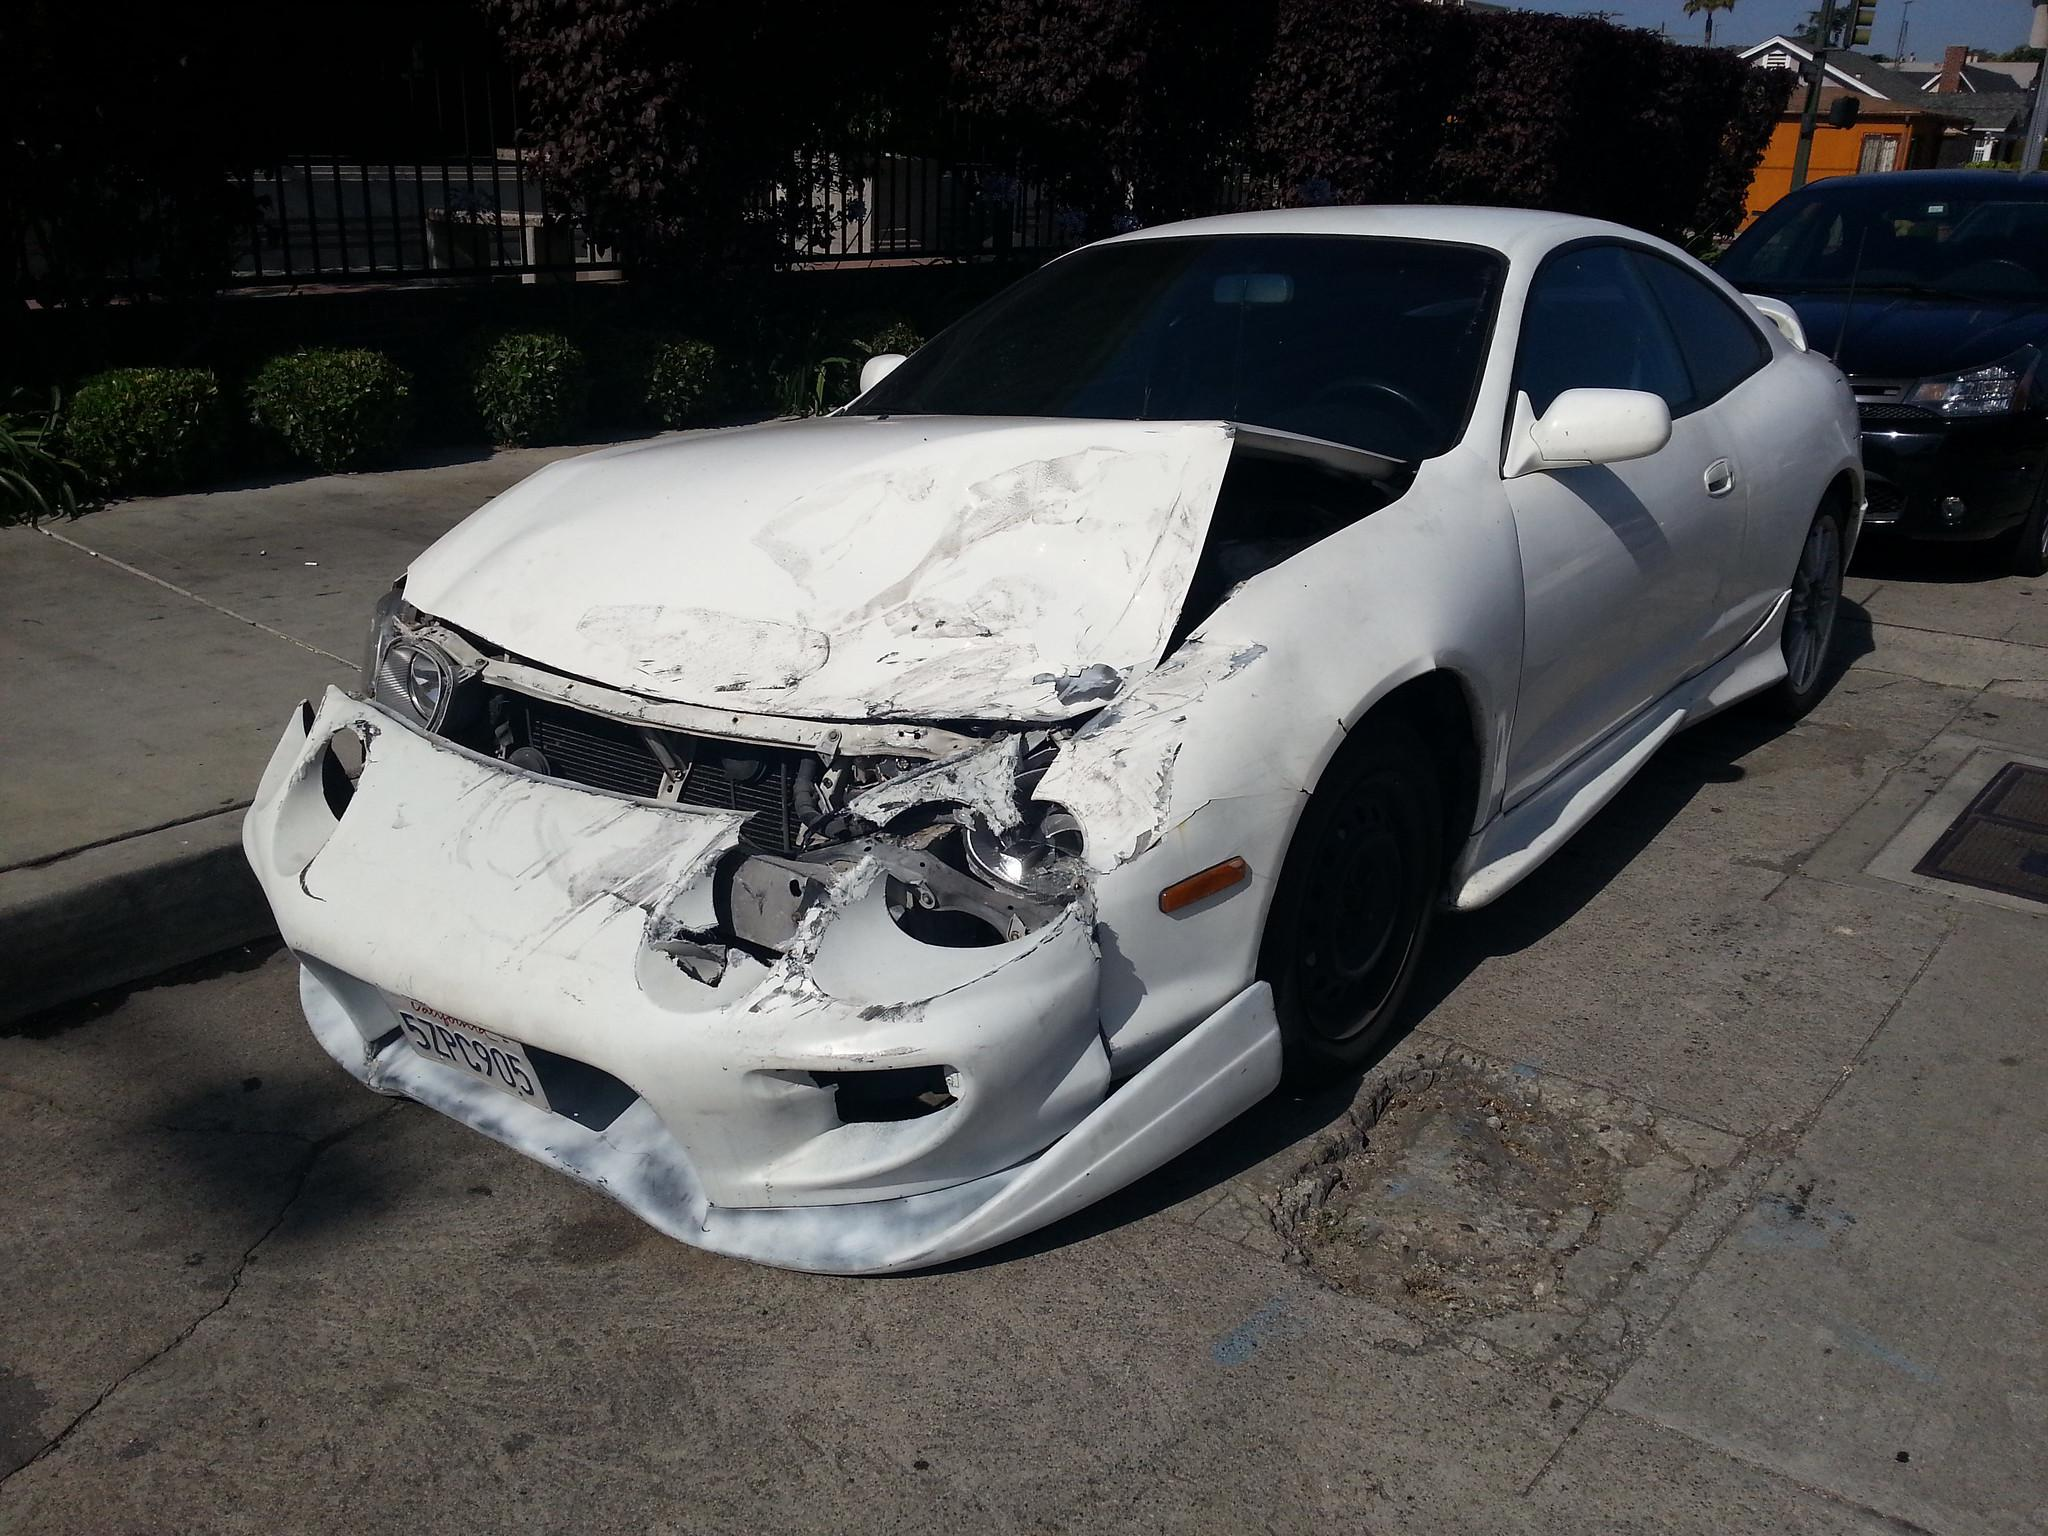Headlight-Damage: (663, 729, 1151, 979)
bonnet-dent: (387, 381, 1390, 695)
front-bumper-dent: (218, 836, 826, 1175)
